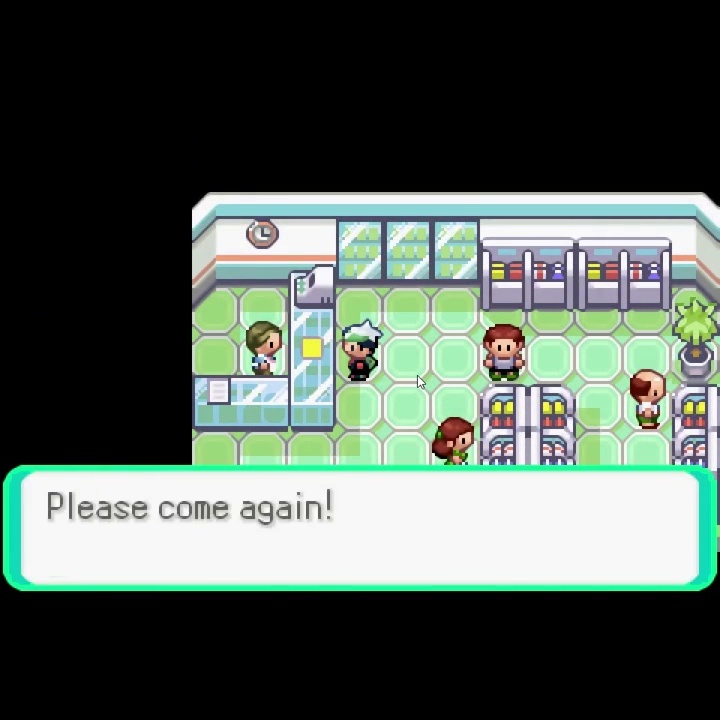agent: (340, 315, 384, 384)
npc: (481, 322, 528, 383), (628, 366, 669, 433), (427, 415, 477, 465), (243, 319, 286, 376)
